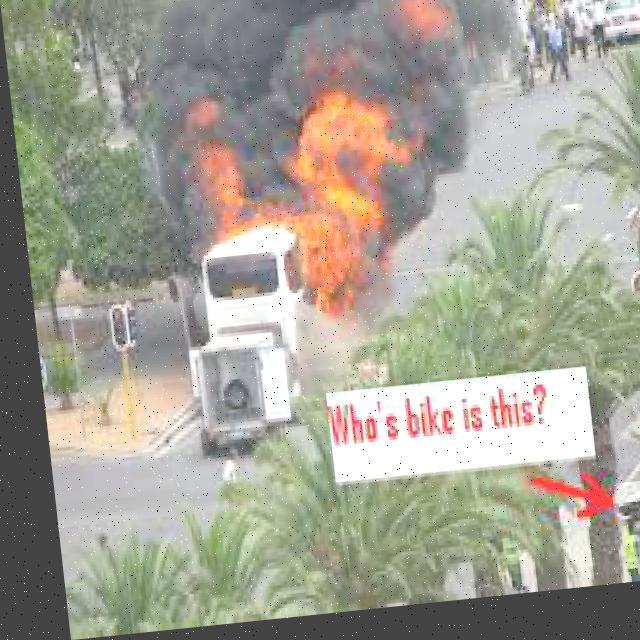Fire: (165, 74, 414, 343)
